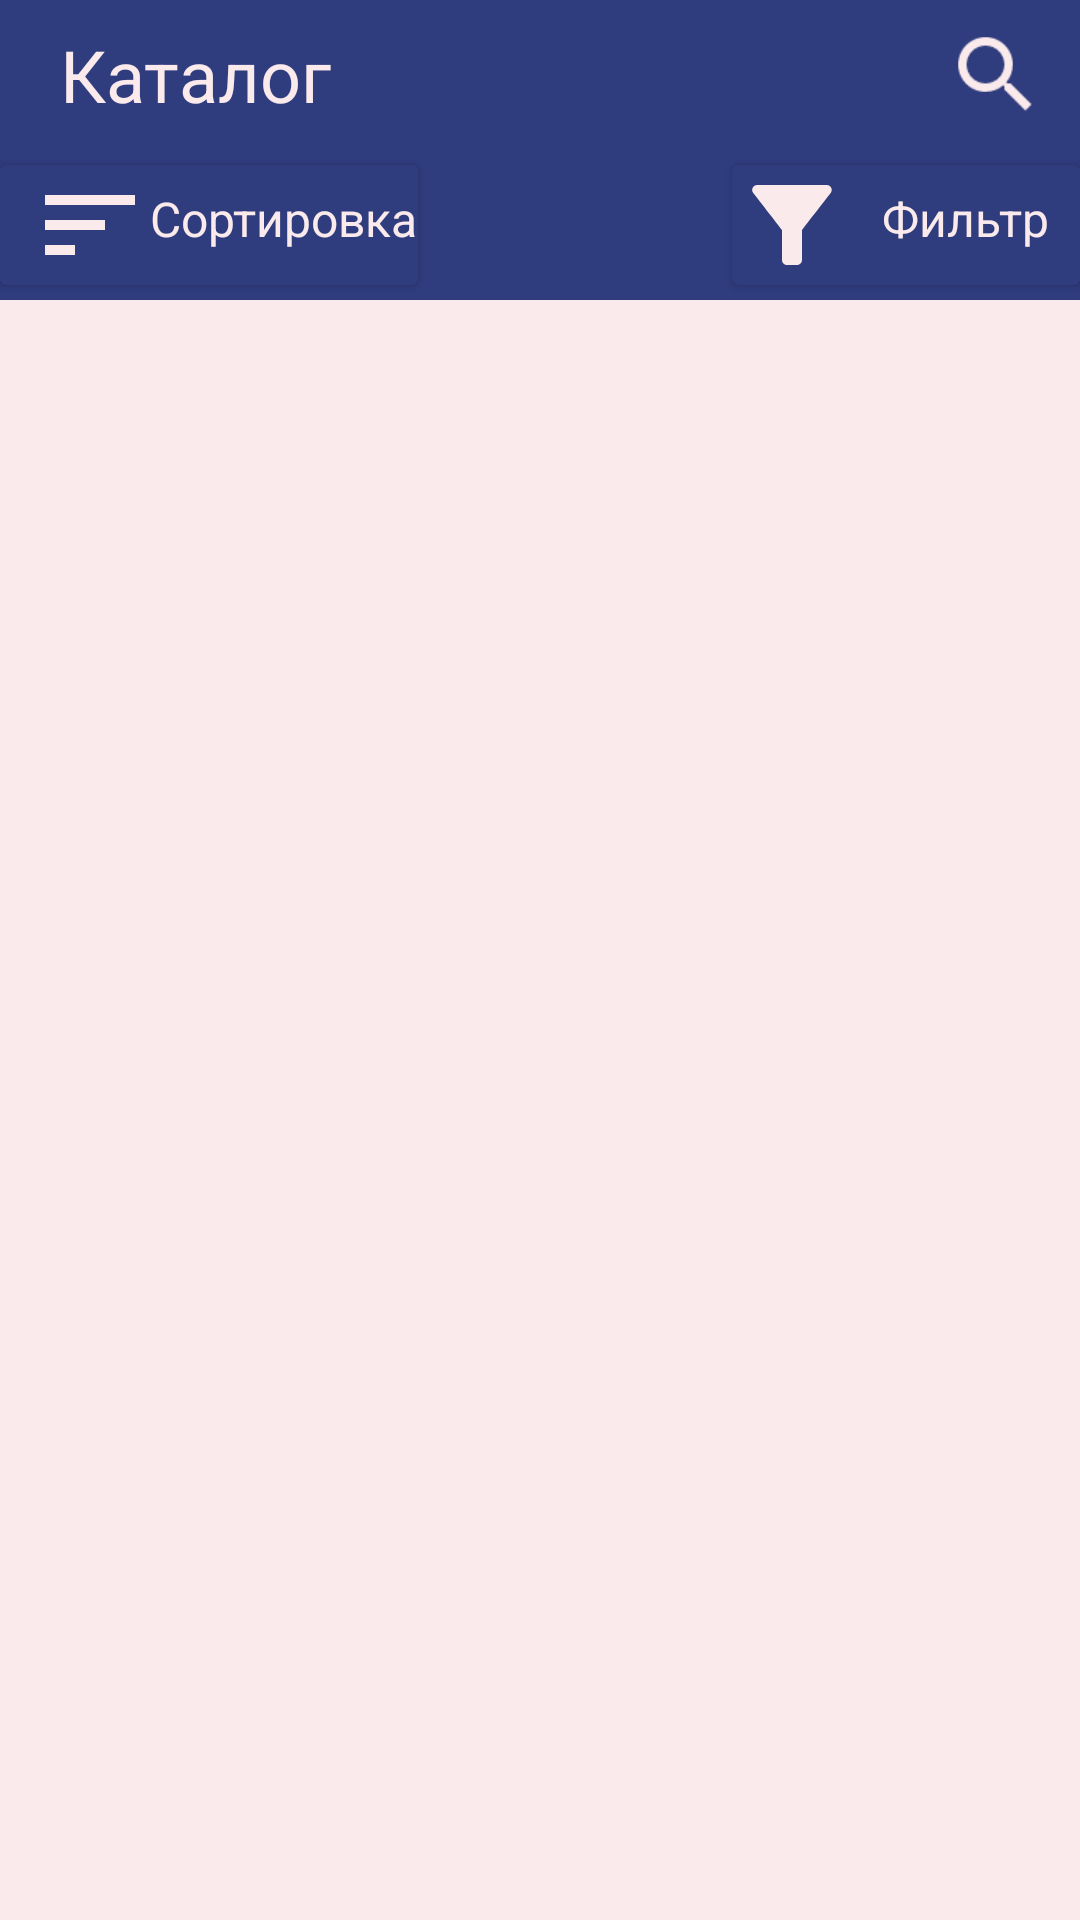

Point at icon controls on the screen. Image size 1080 x 1920, points as point (x, y).
filter: point (792, 225)
sort: point (90, 225)
